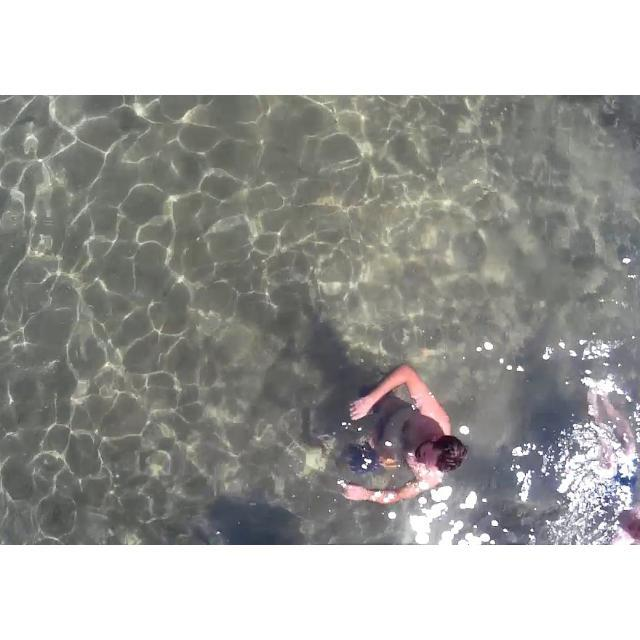human: (330, 348, 465, 516)
